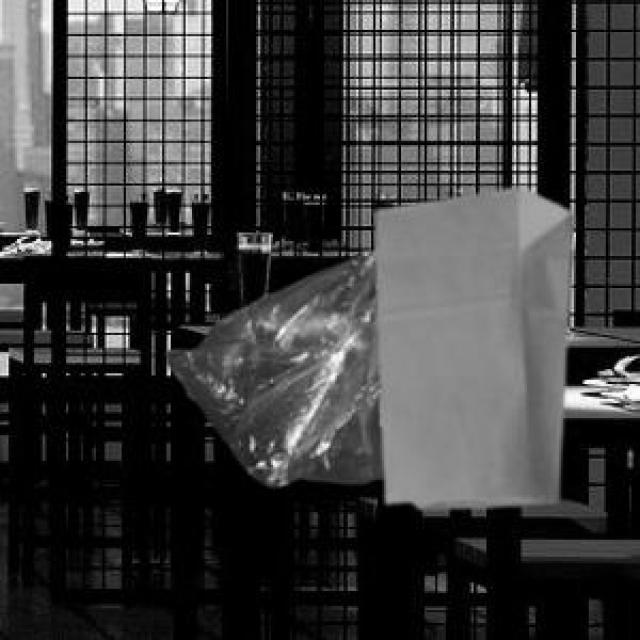paper: (371, 184, 568, 504)
